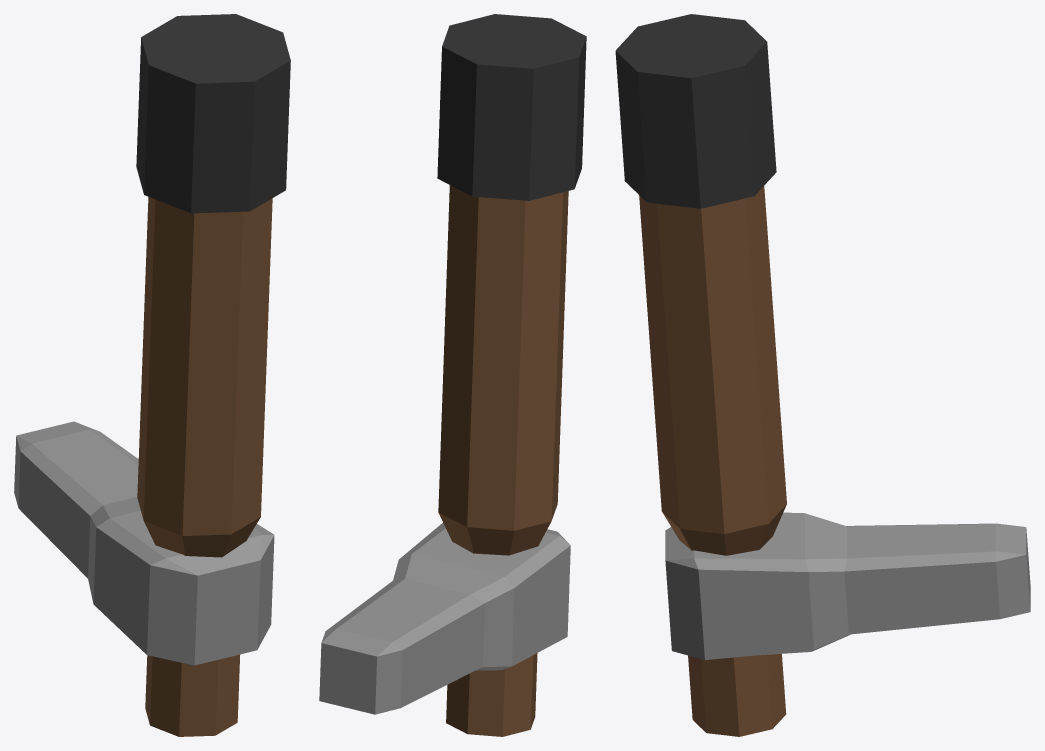
Rendered from TorchWallHanger.fbx.
3 views of the same model, side by side, from view 1: azimuth 30°, elevation 25°; view 2: azimuth 150°, elevation 25°; view 3: azimuth 270°, elevation 25° (orthographic). The views are drawn at different scales.
Visible parts, largest first — view 1: TorchWallHanger; view 2: TorchWallHanger; view 3: TorchWallHanger.
Part boxes in pixels (x1,y1,x2,y2): TorchWallHanger: (14, 14, 290, 736); TorchWallHanger: (319, 14, 586, 736); TorchWallHanger: (615, 14, 1030, 736).
Bounding box in the file's own units: 0.09 × 0.4429 × 0.2456.
Materials: 1 (1 with a texture image).
